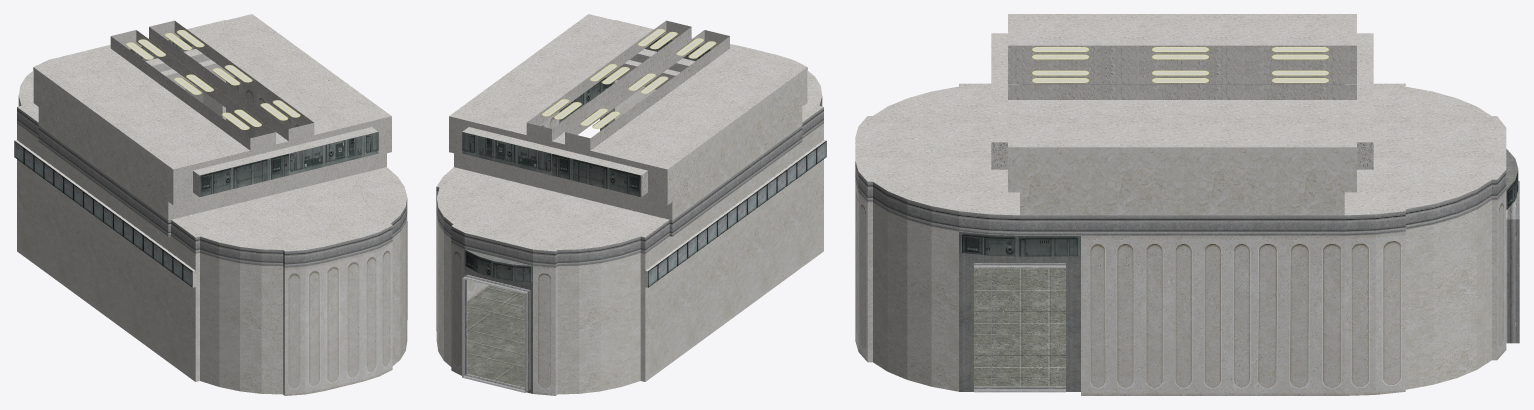
Rendered from ply_all_house_lg_s01_fp1_r6_room6_mesh_r6.fbx.
3 renders of one model, left to right at view 1: azimuth 30°, elevation 25°; view 2: azimuth 150°, elevation 25°; view 3: azimuth 270°, elevation 25°, orthographic. The views are drawn at different scales.
Parts seen in each view (by area): view 1: mesh_node; view 2: mesh_node; view 3: mesh_node.
Boxes of the visible parts, x1,y1,x2,y2 form: mesh_node: [14, 14, 407, 395]; mesh_node: [436, 14, 826, 395]; mesh_node: [855, 14, 1519, 395].
Bounding box in the file's own units: 7 × 6.4 × 14.58.
